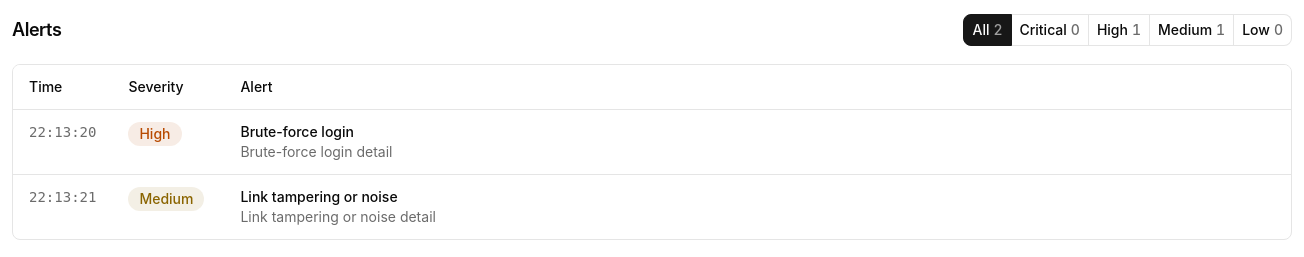
Test case: AlertFeed › filters by severity and says when a filter is empty
Click the radio button labelled "High 1": x=1119, y=30 [1089, 14, 1150, 46]
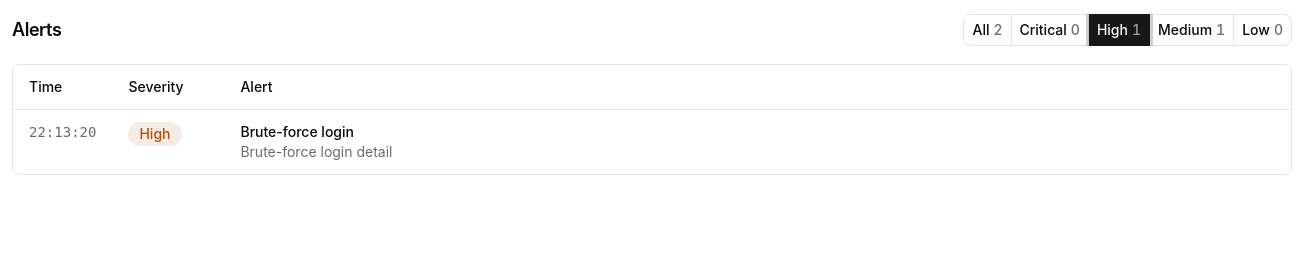
Expected: the text "Brute-force login" is shown, [240, 122, 354, 140]
Expected: the text "Link tampering or noise" is gone
Click the radio button labelled "Critical 0": x=1050, y=30 [1012, 14, 1089, 46]
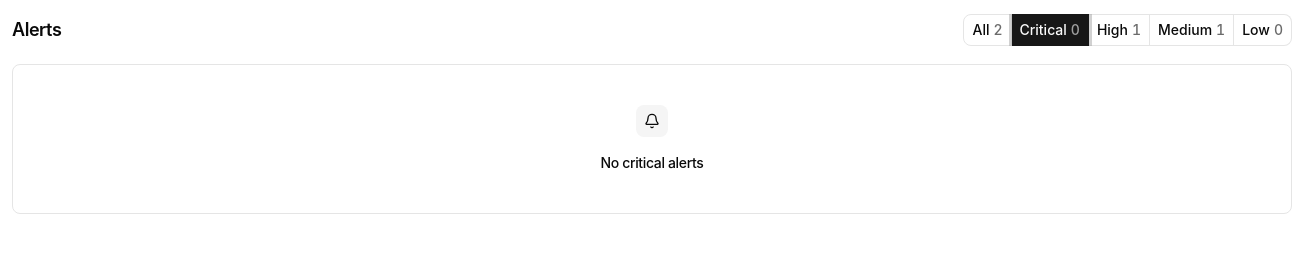
Expected: the text "No critical alerts" is shown, [601, 153, 704, 173]
